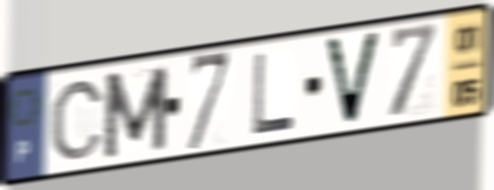7: (388, 20, 441, 124), (186, 48, 235, 155)
C: (48, 77, 107, 163)
L: (250, 50, 298, 138)
M: (100, 62, 170, 162)
V: (321, 29, 384, 130)
